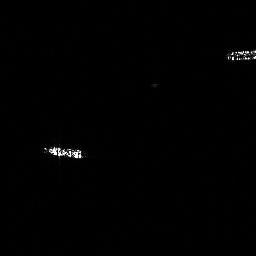ship: (38, 141, 88, 161), (223, 46, 256, 65)
